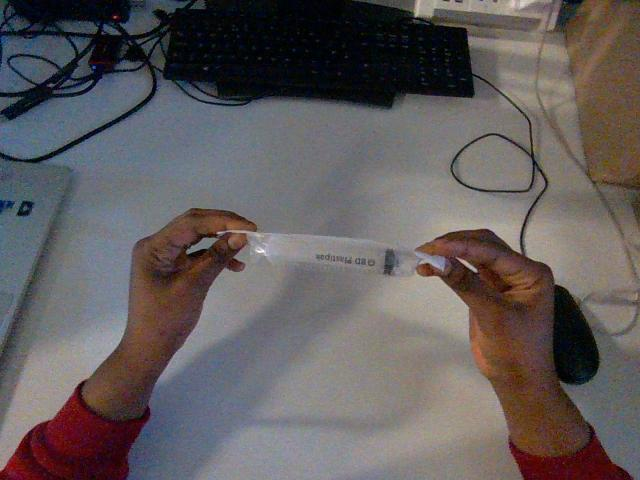syringe: (220, 230, 446, 275)
